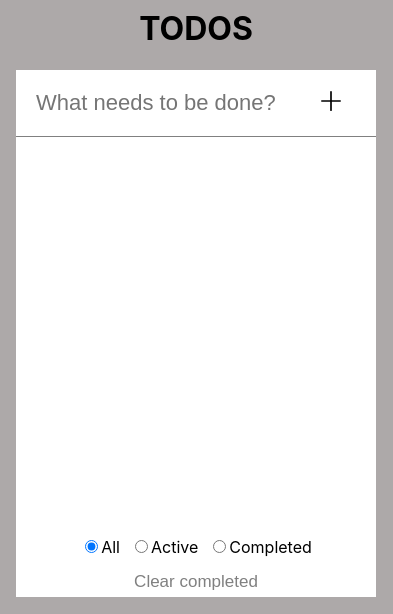
Test: Test TodoList page › Delete task
Type "Test task" into the field named "add-task-form-input" at (196, 103), box [16,70,376,137]
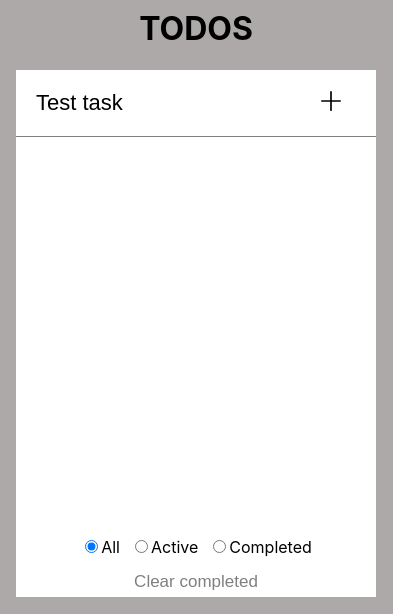
Submit the form named "add-task-form", box [16,70,376,137]
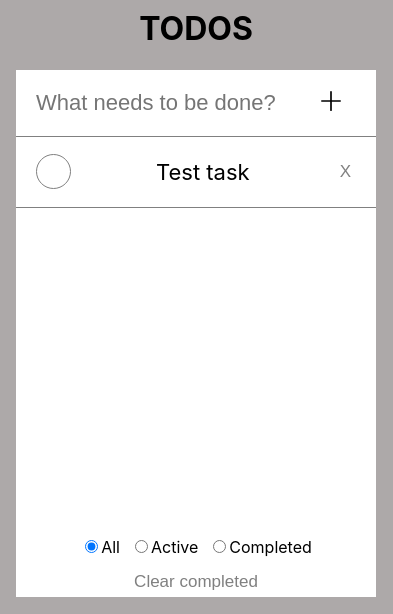
Click the button named "task-delete-button" at (345, 172), box [335,157,356,187]
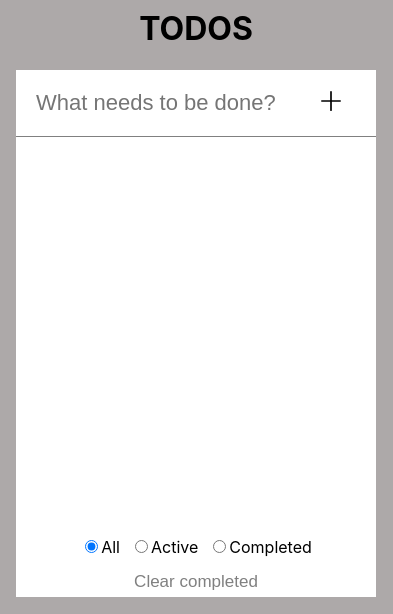
Now the text labelled "task" is gone
